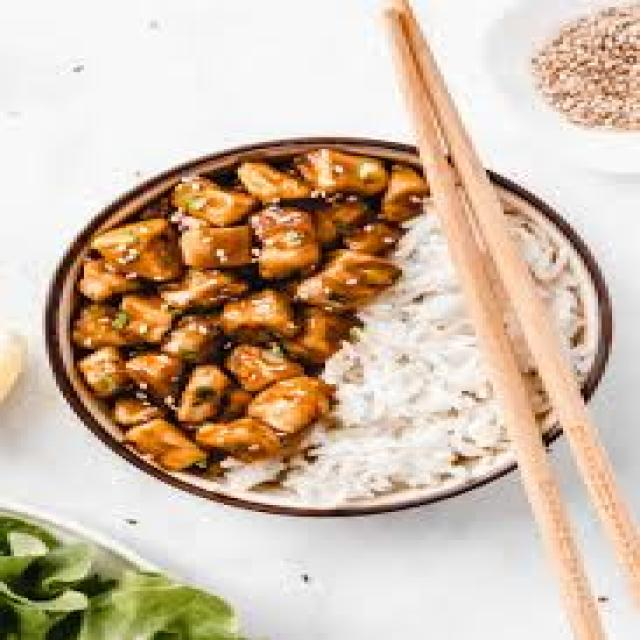Rice: (168, 200, 511, 507), (507, 193, 595, 379)
Tofu: (77, 149, 423, 468)
